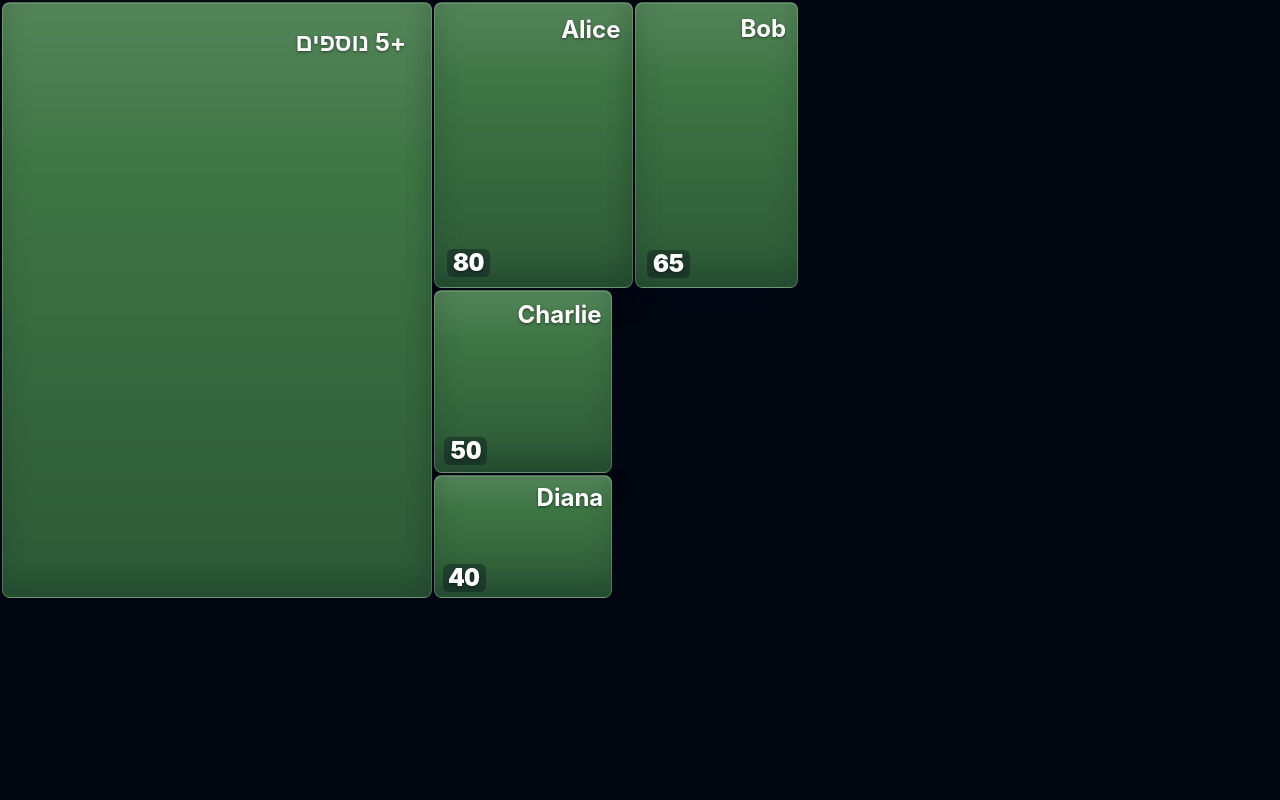
Test: Treemap › shows drill-down when Others block is clicked
Click the button "+5 נוספים". click: (217, 300)
box: [2,2,432,598]
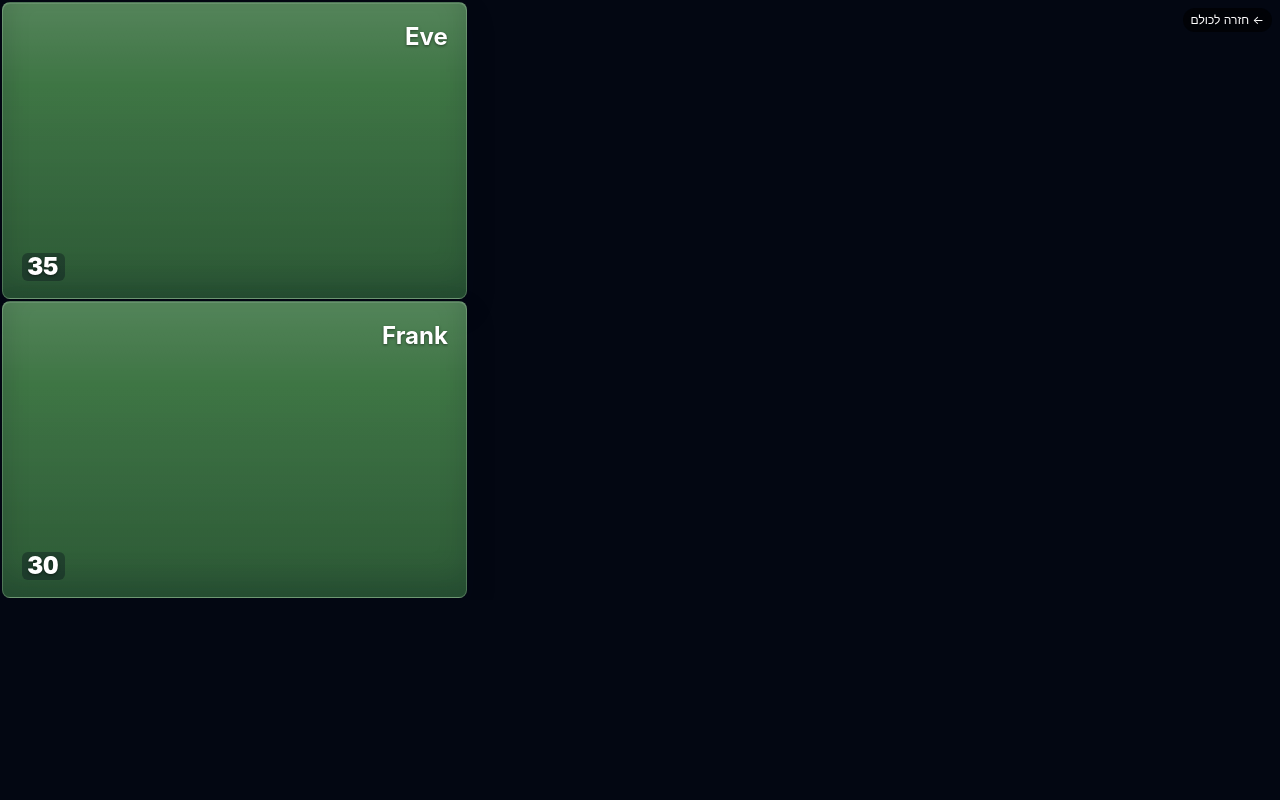
Check: the button "← חזרה לכולם" is shown, box [1183,8,1272,32]
Check: the text "Eve" is shown, box [405,22,448,51]
